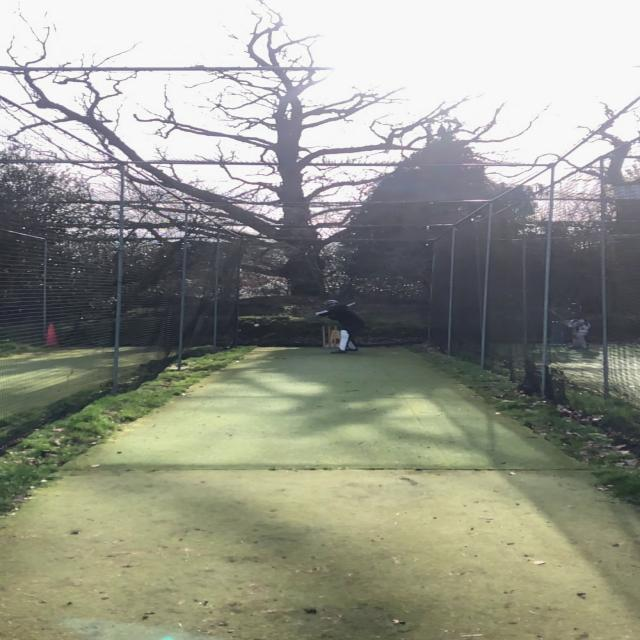ball: (254, 323, 260, 328)
